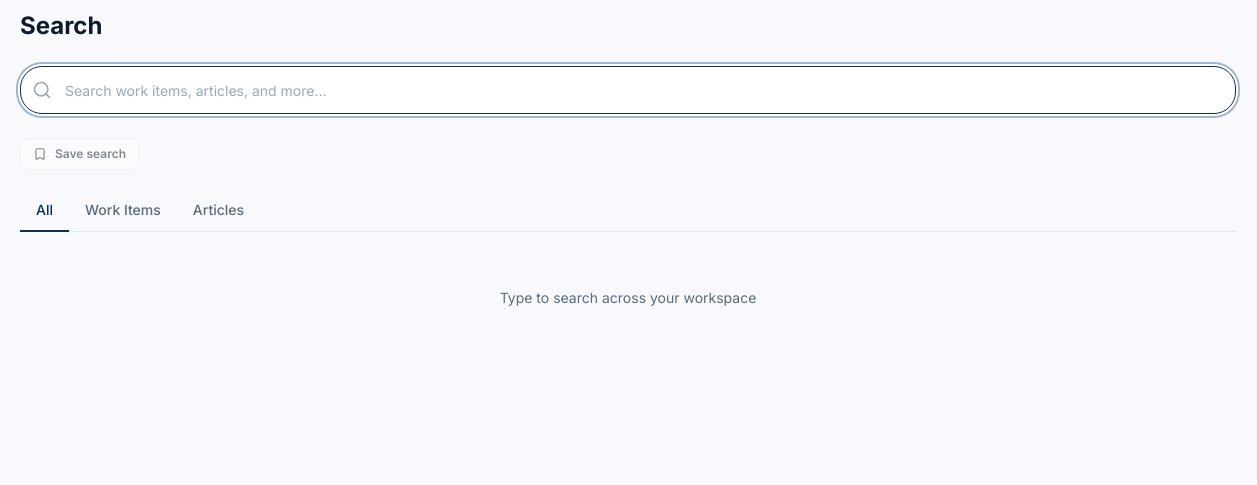
Test case: SearchView › shows error state when search fails
In the search field: (628, 90) top-left (20, 66), bottom-right (1236, 114), type "test"
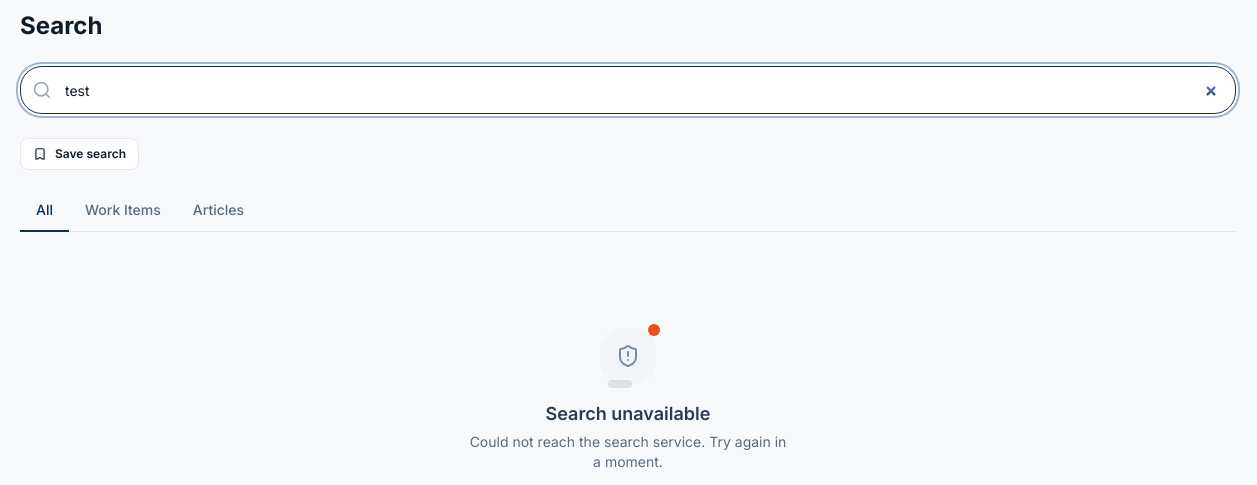
Result: the heading "Search unavailable" is shown at top-left (546, 400), bottom-right (710, 428)
